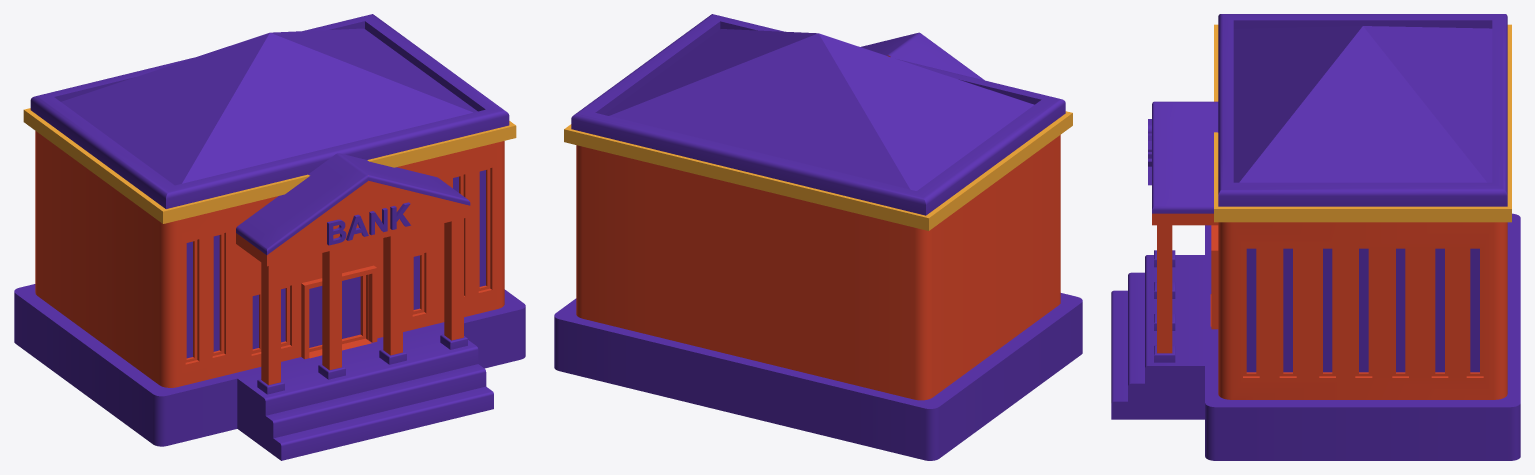
The picture shows the model from 3 angles, left to right: view 1: azimuth 30°, elevation 25°; view 2: azimuth 150°, elevation 25°; view 3: azimuth 270°, elevation 25°; orthographic projection. The views are drawn at different scales.
Visible parts, largest first — view 1: Cube, Cone, Text; view 2: Cube, Cone; view 3: Cube, Cone.
Boxes of the visible parts, bbox=[...] form: Cube: bbox=[14, 14, 525, 460]; Cone: bbox=[61, 28, 477, 185]; Text: bbox=[327, 202, 410, 245]; Cube: bbox=[554, 14, 1082, 460]; Cone: bbox=[604, 29, 1034, 190]; Cube: bbox=[1111, 14, 1520, 460]; Cone: bbox=[1233, 26, 1492, 182].
Size of the model in its own units: 2.71 by 2.21 by 2.43.
